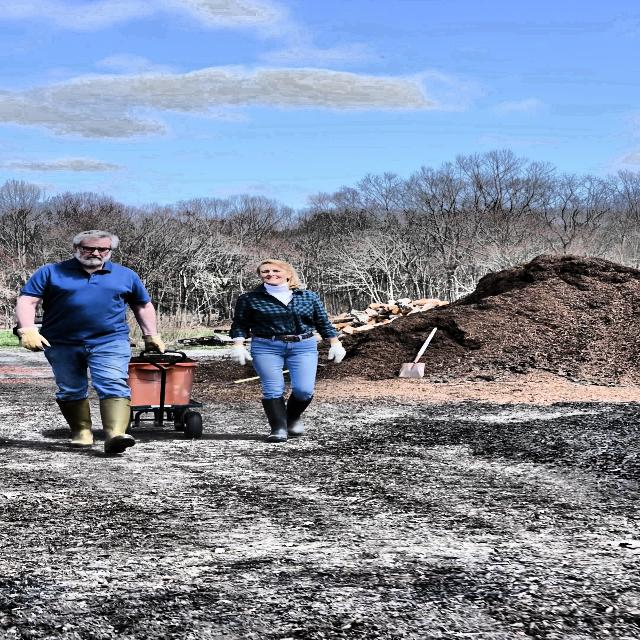gloved: (6, 324, 59, 355), (134, 332, 184, 354), (320, 339, 356, 365), (224, 342, 259, 366)
